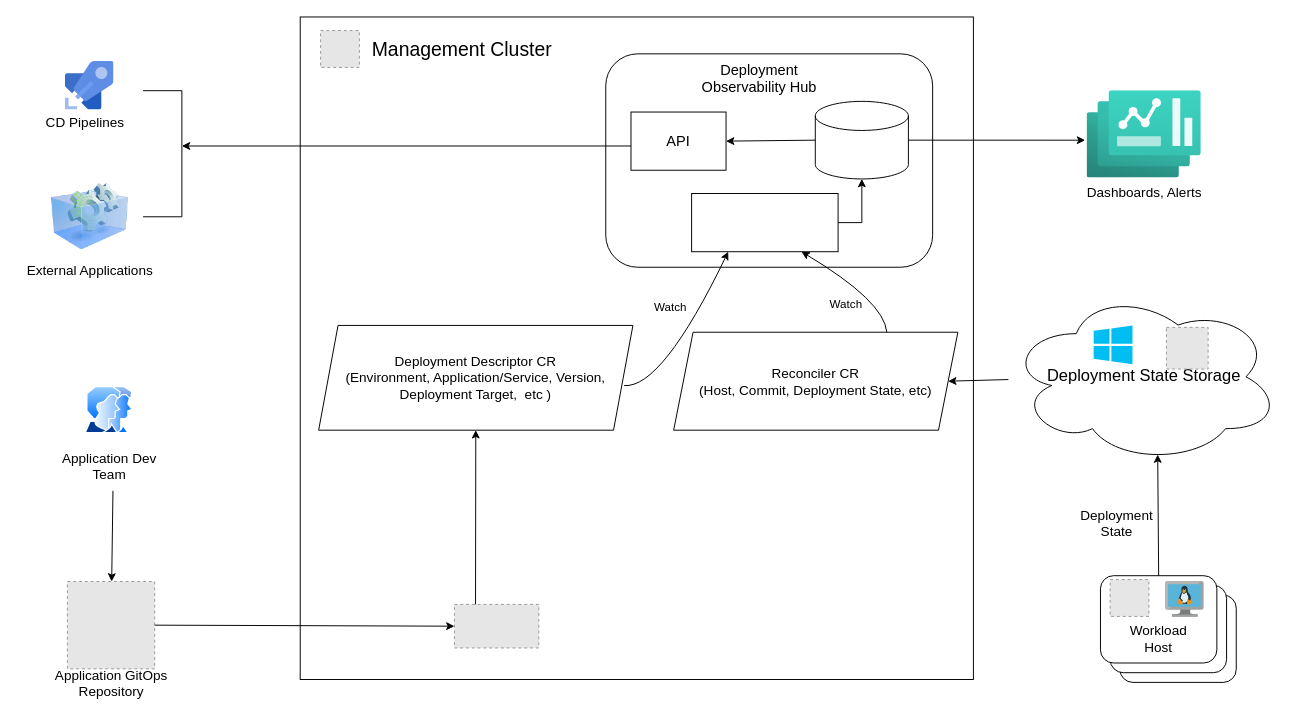
This 1297x725 diagram has some shape labels left out. Grey dashed boxes stand in for pictures. The shapes that lost their labels are listed below. From the top down, each one's centre as x and y in pixels, then its label:
pixel 861 139: Deployment Data
pixel 764 222: Controller
